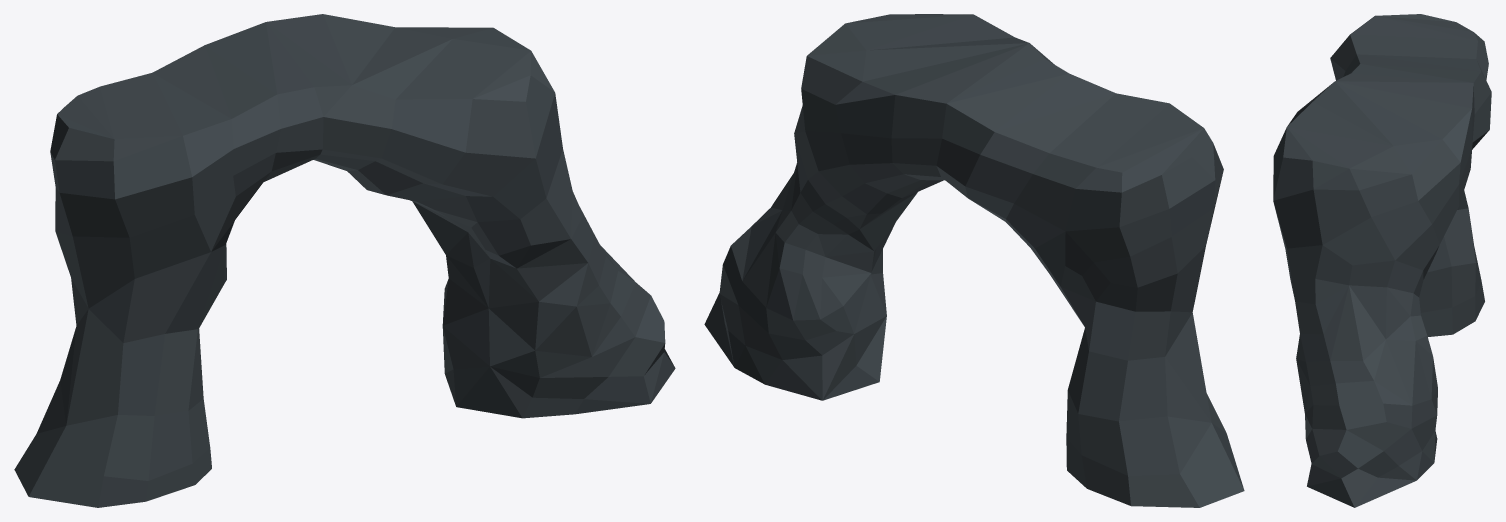
The model's file is Pillar-C15.fbx.
3 views of the same model, side by side, from view 1: azimuth 30°, elevation 25°; view 2: azimuth 150°, elevation 25°; view 3: azimuth 270°, elevation 25° (orthographic). The views are drawn at different scales.
Parts seen in each view (by area): view 1: Pillar-C15; view 2: Pillar-C15; view 3: Pillar-C15.
Boxes of the visible parts, x1,y1,x2,y2 form: Pillar-C15: (14,14,675,507); Pillar-C15: (704,14,1244,507); Pillar-C15: (1273,14,1491,507).
Bounding box in the file's own units: 487 × 190 × 287.
